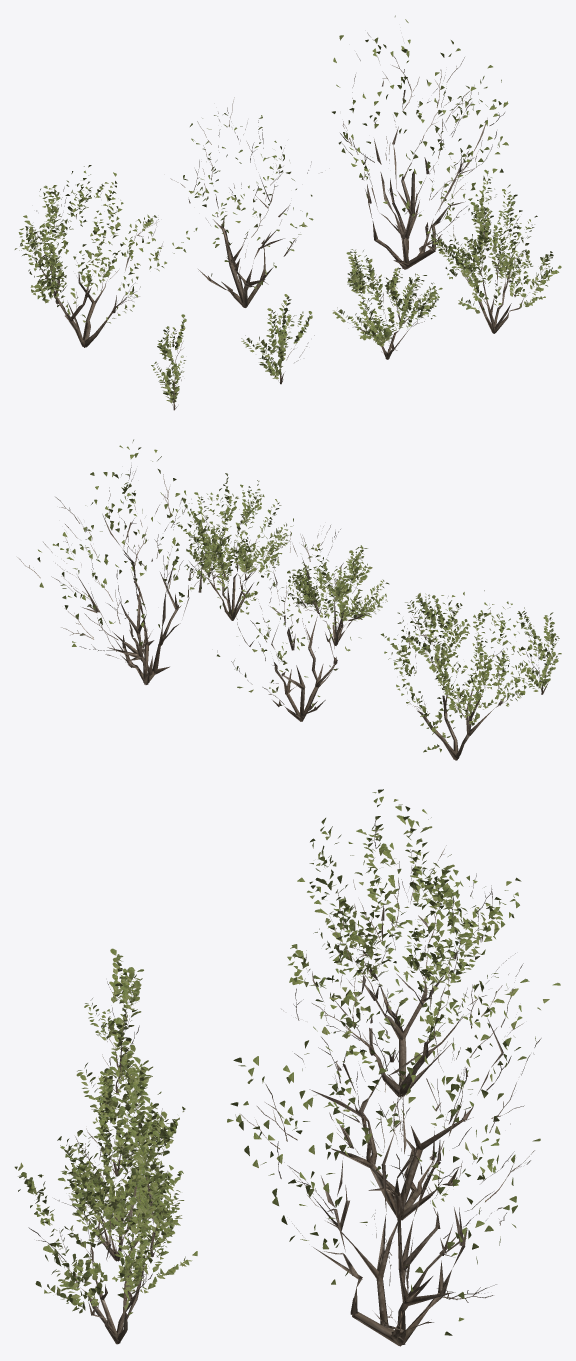
File: broadleaf.glb
3 views of the same model, one above another, from view 1: azimuth 30°, elevation 25°; view 2: azimuth 150°, elevation 25°; view 3: azimuth 270°, elevation 25° (orthographic). The views are drawn at different scales.
Visible parts, largest first — view 1: searsia_lucida_c_LOD0, searsia_lucida_d_LOD0, searsia_lucida_a_LOD0, searsia_lucida_e_LOD0, searsia_lucida_b_LOD0, searsia_lucida_f_LOD0, searsia_lucida_g_LOD0; view 2: searsia_lucida_c_LOD0, searsia_lucida_a_LOD0, searsia_lucida_d_LOD0, searsia_lucida_e_LOD0, searsia_lucida_b_LOD0, searsia_lucida_f_LOD0, searsia_lucida_g_LOD0; view 3: searsia_lucida_c_LOD0, searsia_lucida_a_LOD0, searsia_lucida_d_LOD0, searsia_lucida_b_LOD0, searsia_lucida_e_LOD0, searsia_lucida_g_LOD0, searsia_lucida_f_LOD0.
Boxes of the visible parts, box(x1,y1,x2,y2) form: searsia_lucida_c_LOD0: box(14, 165, 194, 347); searsia_lucida_d_LOD0: box(426, 169, 561, 333); searsia_lucida_a_LOD0: box(332, 15, 508, 269); searsia_lucida_e_LOD0: box(332, 249, 442, 359); searsia_lucida_b_LOD0: box(170, 97, 322, 307); searsia_lucida_f_LOD0: box(241, 294, 314, 384); searsia_lucida_g_LOD0: box(151, 314, 186, 410); searsia_lucida_c_LOD0: box(380, 590, 558, 760); searsia_lucida_a_LOD0: box(17, 439, 259, 684); searsia_lucida_d_LOD0: box(170, 473, 293, 620); searsia_lucida_e_LOD0: box(281, 545, 389, 645); searsia_lucida_b_LOD0: box(217, 525, 363, 721); searsia_lucida_f_LOD0: box(405, 593, 470, 667); searsia_lucida_g_LOD0: box(517, 610, 561, 694); searsia_lucida_c_LOD0: box(287, 789, 521, 1097); searsia_lucida_a_LOD0: box(227, 952, 540, 1346); searsia_lucida_d_LOD0: box(14, 1090, 197, 1344); searsia_lucida_b_LOD0: box(281, 861, 560, 1220); searsia_lucida_e_LOD0: box(54, 1053, 185, 1261); searsia_lucida_g_LOD0: box(84, 948, 143, 1092); searsia_lucida_f_LOD0: box(76, 1060, 168, 1176).
Bounding box in the file's own units: 4.74 × 2.22 × 2.8.
3 materials, 3 textured.
